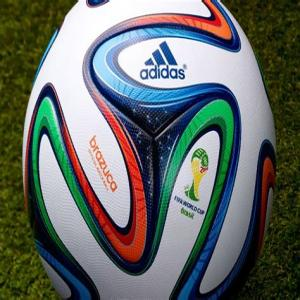Football: (17, 0, 278, 300)
